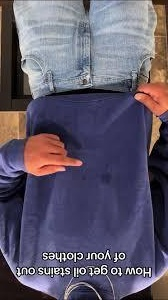oil: (48, 123, 71, 138), (101, 176, 115, 188), (67, 137, 79, 151)
